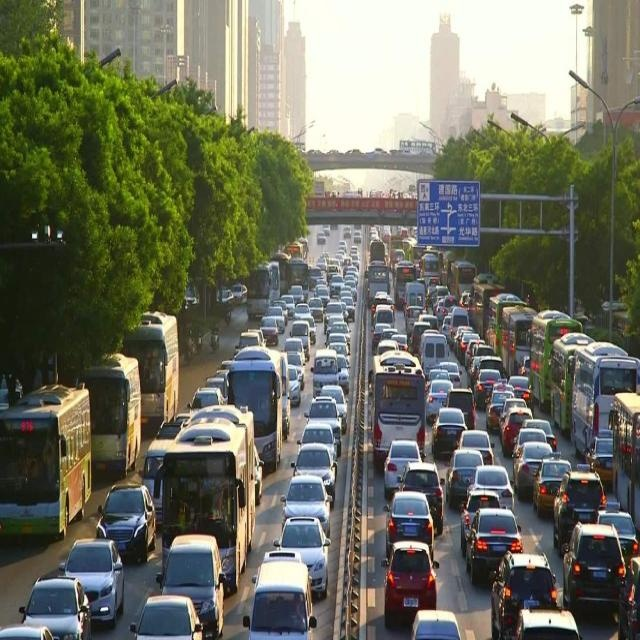Bus: (163, 404, 257, 590), (0, 374, 92, 545), (222, 350, 284, 478), (368, 350, 430, 463), (87, 352, 140, 474), (128, 309, 182, 420), (578, 354, 632, 457), (530, 312, 577, 408), (550, 337, 594, 427), (613, 384, 637, 530), (501, 303, 539, 377), (488, 290, 525, 348), (283, 255, 310, 307), (472, 282, 502, 328), (451, 260, 477, 306), (395, 260, 417, 311), (411, 240, 428, 270), (280, 243, 304, 258)
